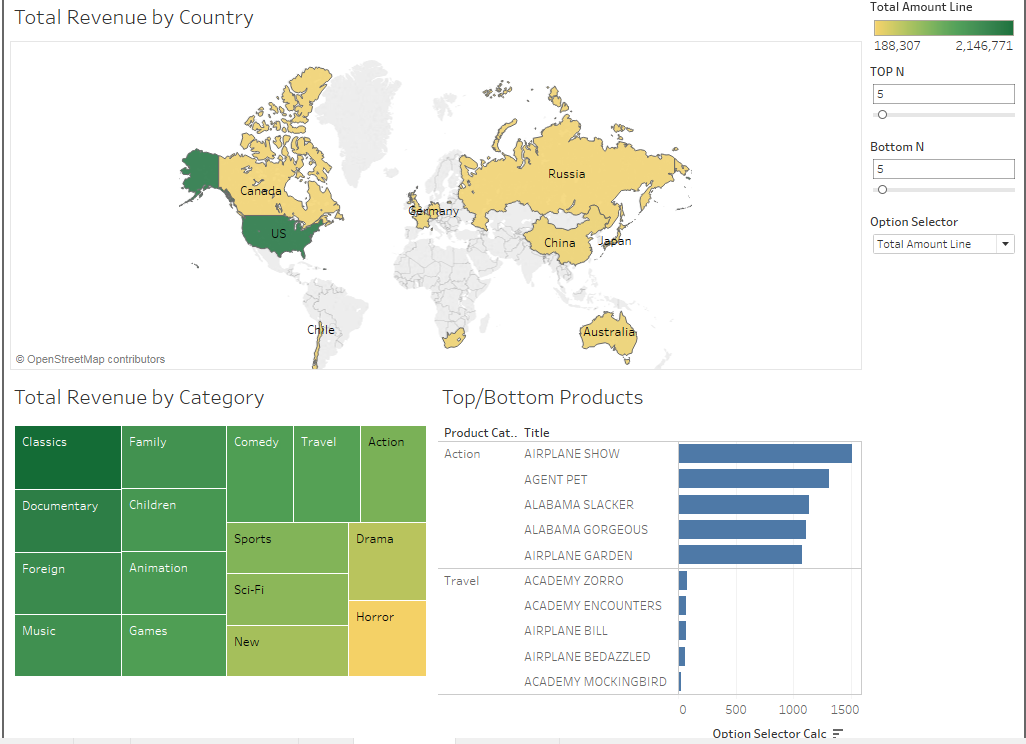

The page's visual inventory and layout, read from the dashboard file:
{"tool":"tableau","page":{"name":"Dashboard 1","canvas":[1024,768],"ordinal":0},"visuals":[{"type":"worksheet","title":"Map Chart","mark":"Automatic","box":[0,0,864,384]},{"type":"legend","title":"Map Chart","param":"[federated.042kxe8127kdwh133wrxz1xyl4fr].[sum:TotalAmountLine:qk]","box":[864,0,160,69]},{"type":"parameter","param":"[Parameters].[Parameter 2]","box":[864,69,160,75]},{"type":"parameter","param":"[Parameters].[TOP N by sum Amount (copy) Parameter]","box":[864,144,160,75]},{"type":"parameter","param":"[Parameters].[Parameter 3]","box":[864,219,160,52]},{"type":"worksheet","title":"Treemap","mark":"Automatic","box":[0,384,432,384]},{"type":"worksheet","title":"Top/Bottom 5 by Category","mark":"Bar","rows":["ProductCategoryName","Title"],"cols":["Calculation_149463276300922897"],"box":[432,384,432,384]}]}

Visuals, with their boxes on the page's 1024x768 design canvas (x1, y1, x2, y2). These are canvas units, not pixel positions in the 1026x744 screenshot, which may show the page scaled, cropped or inside an application window:
"Map Chart" worksheet: crop(0, 0, 864, 384)
"Map Chart" legend: crop(864, 0, 1024, 69)
parameter: crop(864, 69, 1024, 144)
parameter: crop(864, 144, 1024, 219)
parameter: crop(864, 219, 1024, 271)
"Treemap" worksheet: crop(0, 384, 432, 768)
"Top/Bottom 5 by Category" worksheet (Bar marks): crop(432, 384, 864, 768)
